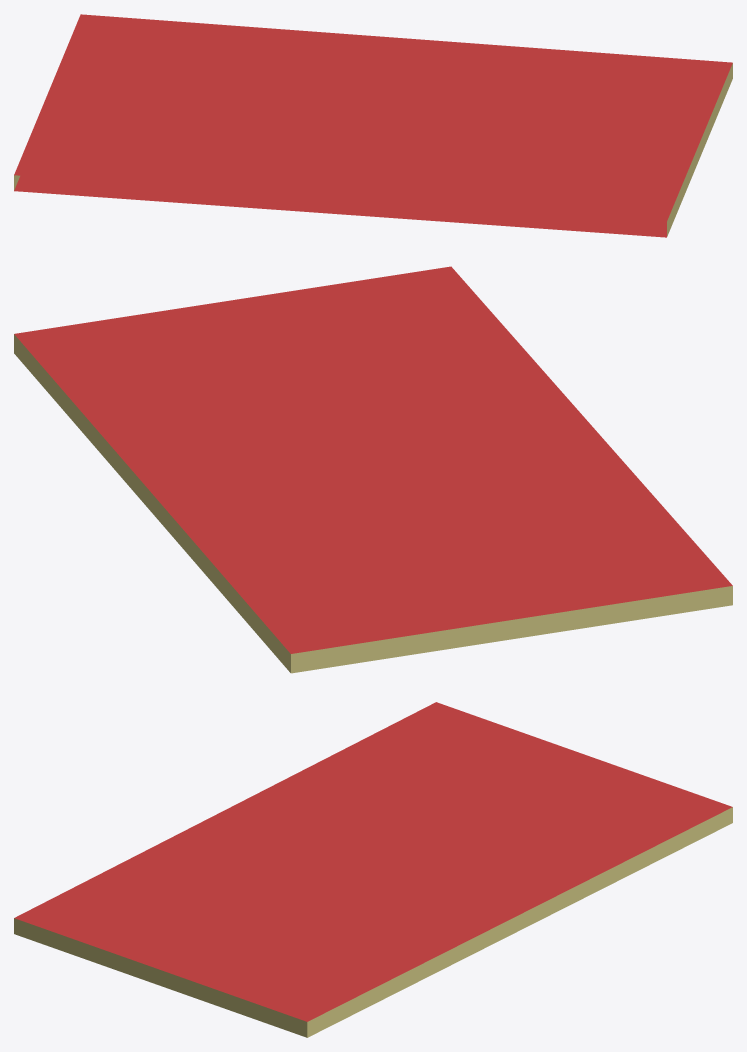
3 renders of one model, top to bottom at view 1: azimuth 30°, elevation 25°; view 2: azimuth 150°, elevation 25°; view 3: azimuth 270°, elevation 25°, orthographic. The views are drawn at different scales.
Parts seen in each view (by area): view 1: group_3, group_5, group_4; view 2: group_3, group_4; view 3: group_3, group_4.
Boxes of the visible parts, x1=… form: group_3: x1=14, y1=14, x2=732, y2=221; group_5: x1=14, y1=175, x2=666, y2=237; group_4: x1=14, y1=63, x2=732, y2=236; group_3: x1=14, y1=266, x2=732, y2=653; group_4: x1=14, y1=334, x2=732, y2=673; group_3: x1=14, y1=702, x2=732, y2=1021; group_4: x1=14, y1=807, x2=732, y2=1037.
Size of the model in its own units: 4.3 by 4.08 by 0.1.
